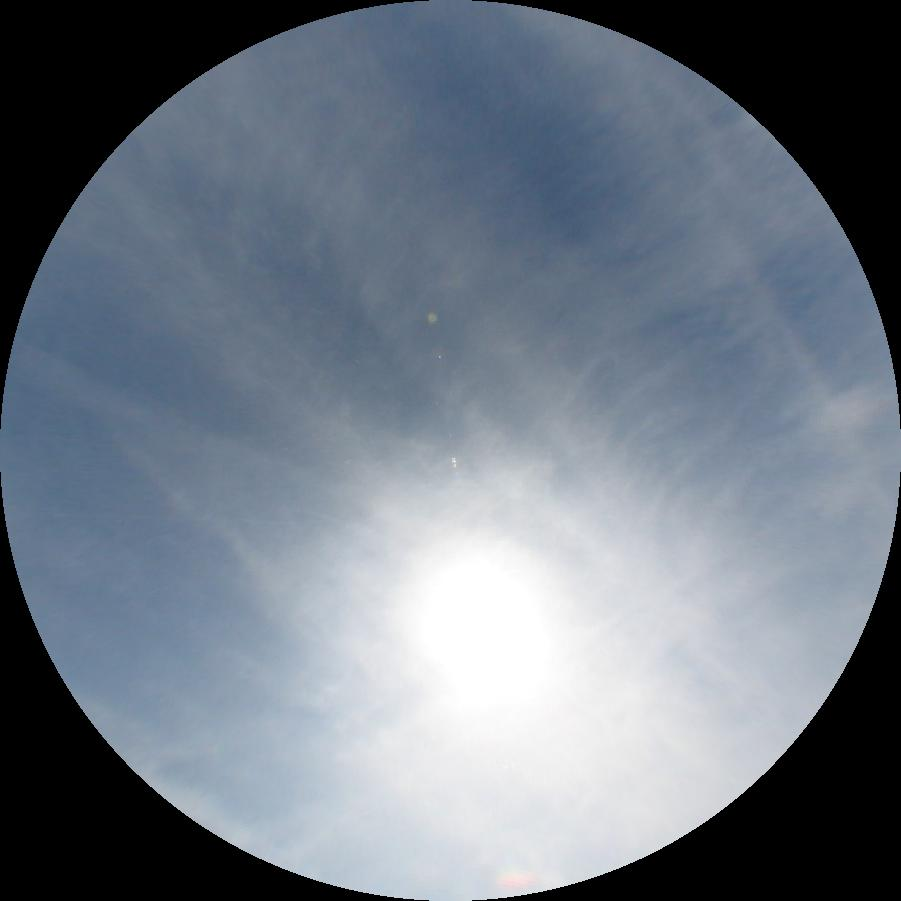contrail veryold: (573, 19, 898, 534)
sun: (417, 557, 549, 706)
